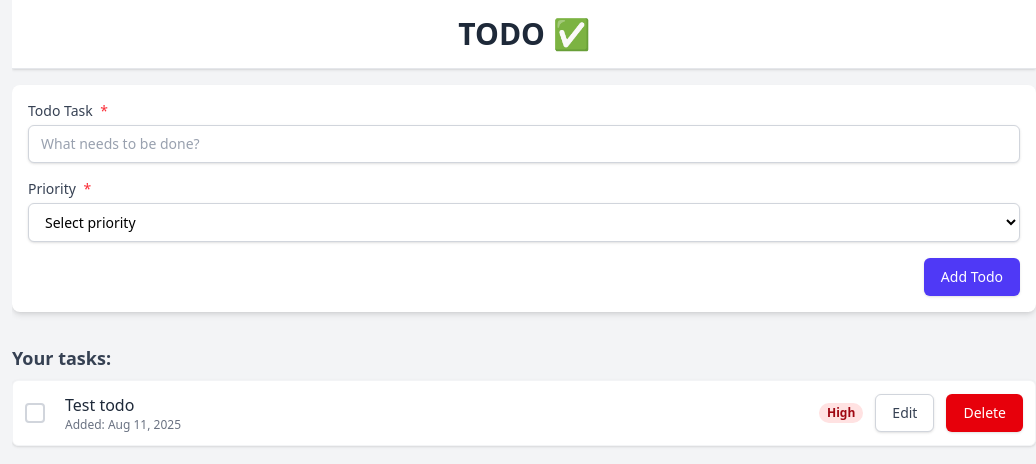
Test: TodoPage.vue › edits todo and updates state
The width and height of the screenshot is (1036, 464).
Click the button "Edit".
click(905, 413)  # box [875,394,934,432]
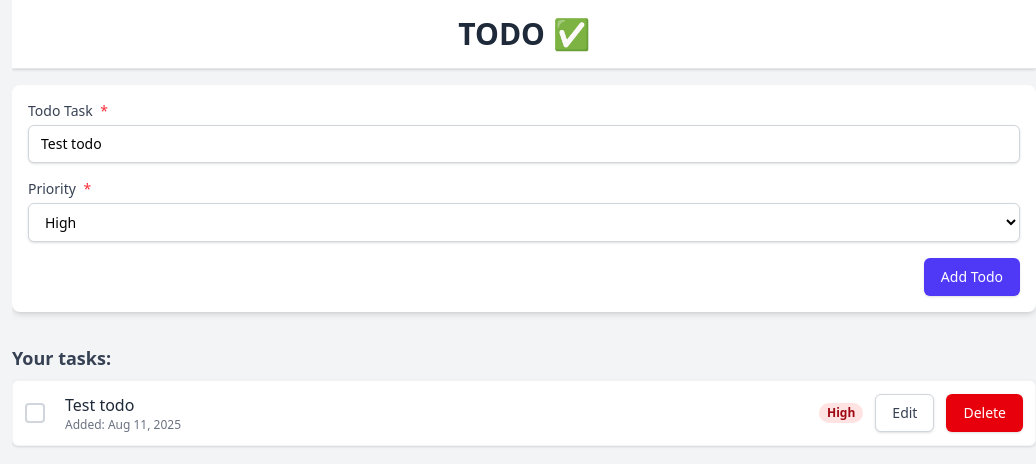
Replace the text in the field labelled "Todo Task *" with "Updated" at (524, 144), box [28,125,1020,163]
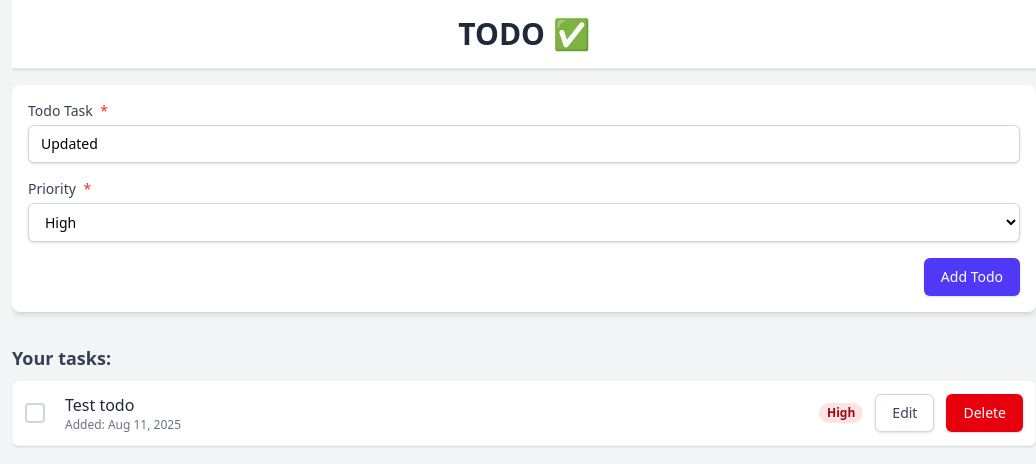
Submit the form, box [28,101,1020,296]
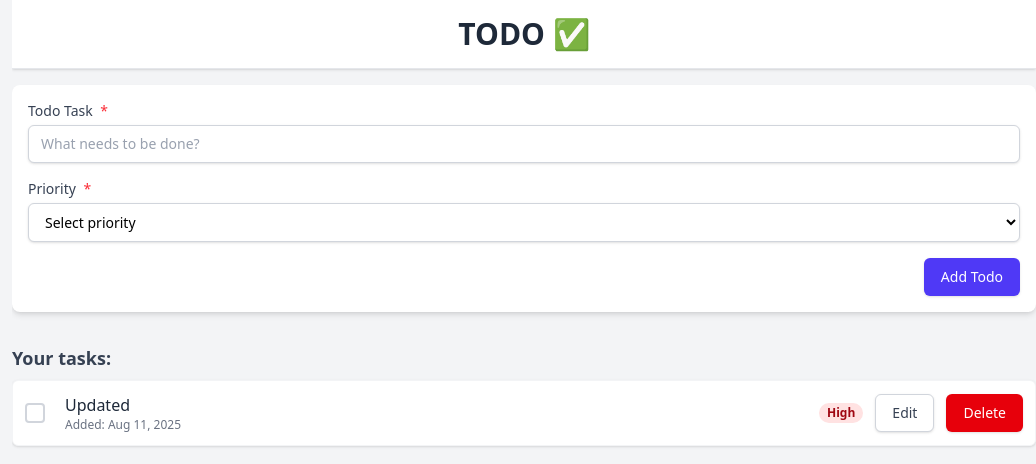
Check: the text "Updated" is shown, box [65,394,130,416]
